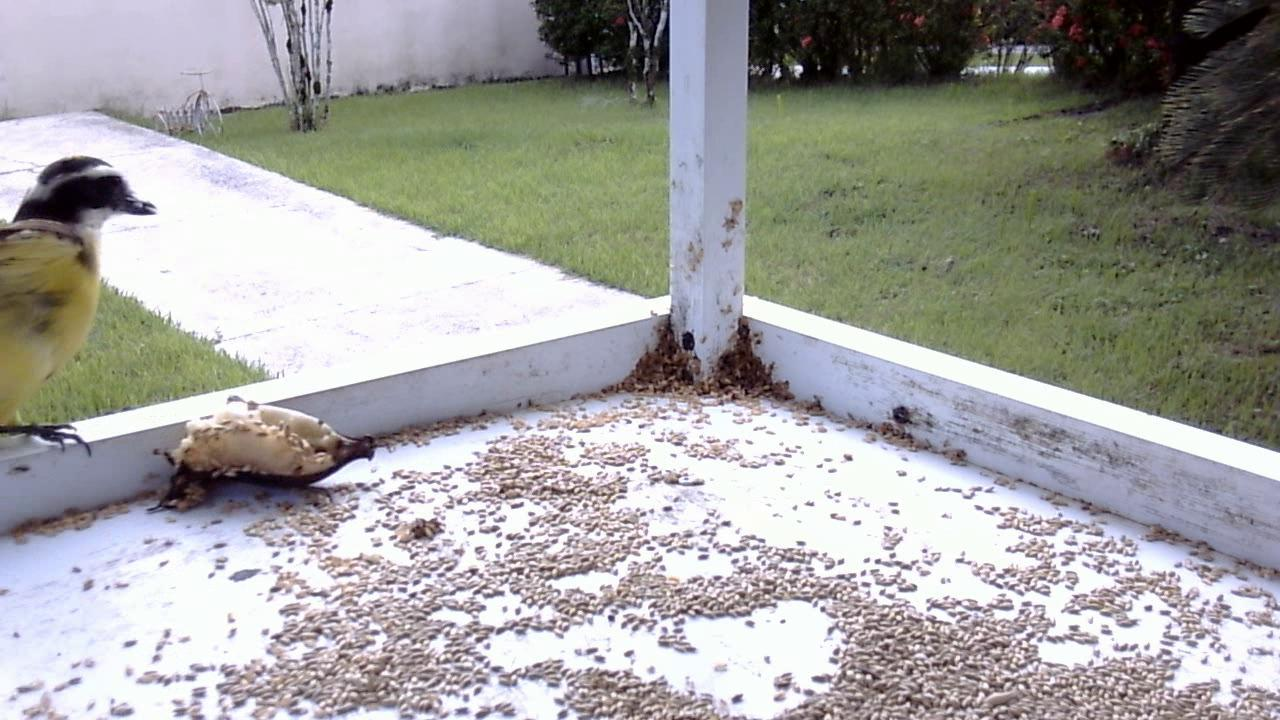bem_te_vi: (1, 143, 165, 475)
